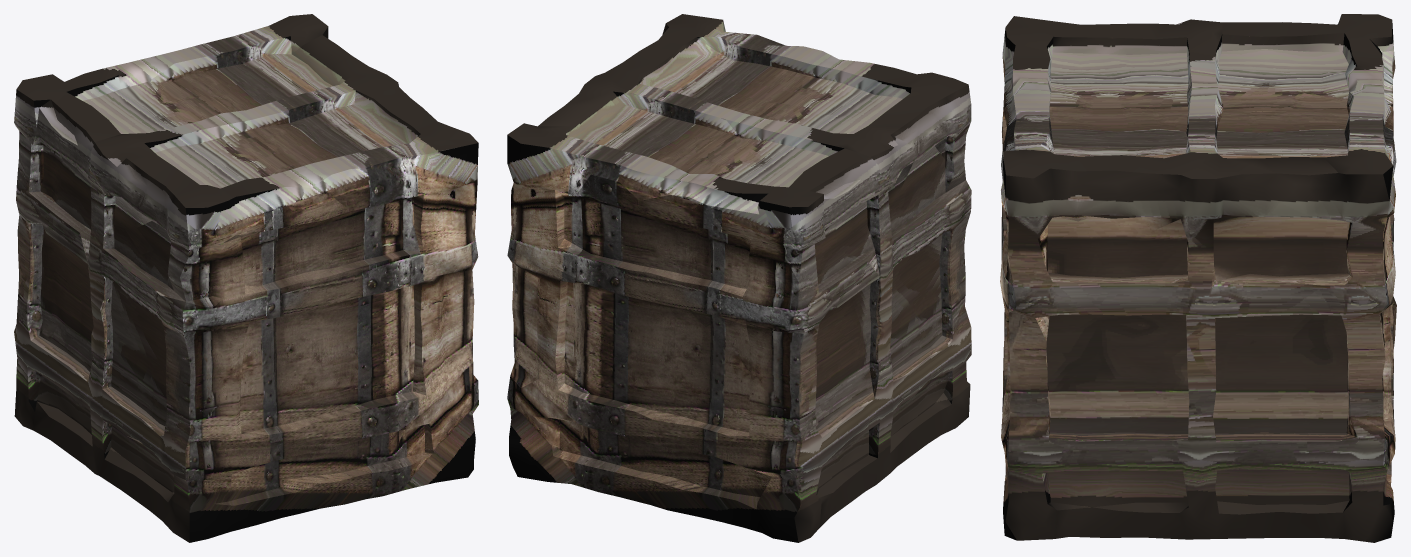
The model's file is crate.glb.
3 views of the same model, side by side, from view 1: azimuth 30°, elevation 25°; view 2: azimuth 150°, elevation 25°; view 3: azimuth 270°, elevation 25° (orthographic). The views are drawn at different scales.
Parts seen in each view (by area): view 1: geometry_0; view 2: geometry_0; view 3: geometry_0.
Boxes of the visible parts, x1=… form: geometry_0: x1=14, y1=14, x2=478, y2=542; geometry_0: x1=507, y1=14, x2=971, y2=542; geometry_0: x1=1000, y1=14, x2=1396, y2=542.
Bounding box in the file's own units: 0.7614 × 0.8 × 0.7737.
1 material, 1 textured.
